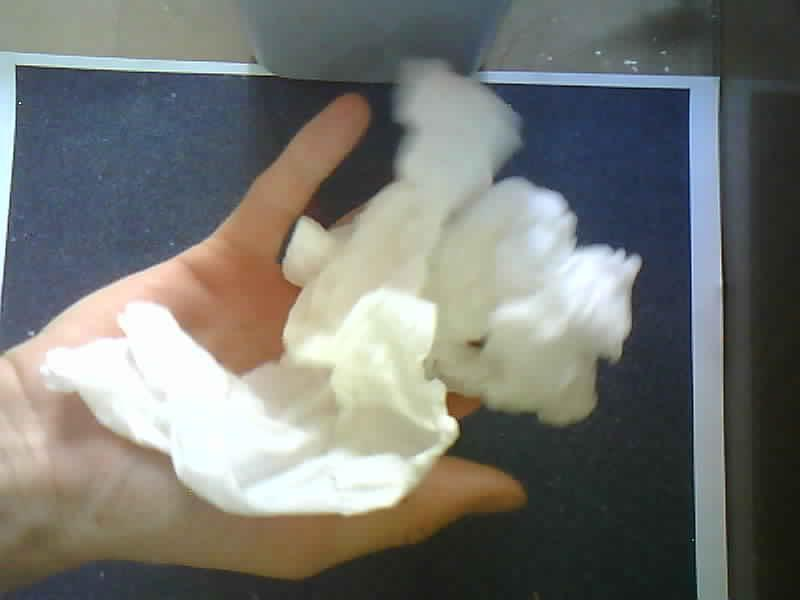paper: (42, 64, 641, 514)
